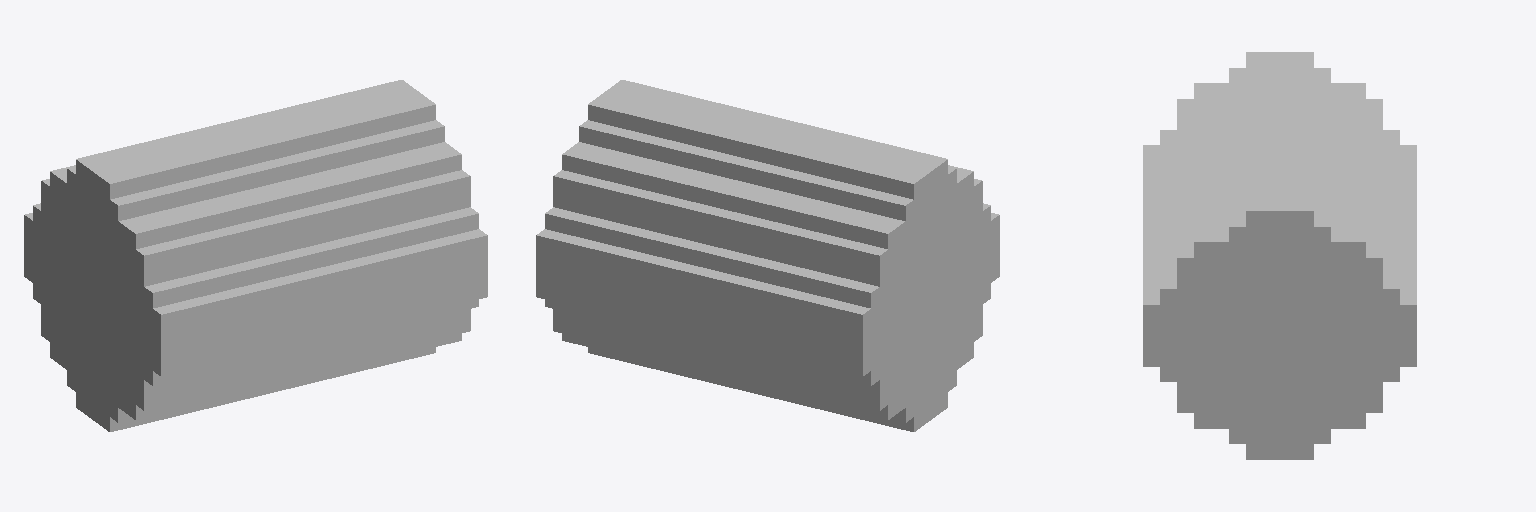
The model's file is snake22_ str.obj.
3 views of the same model, side by side, from view 1: azimuth 30°, elevation 25°; view 2: azimuth 150°, elevation 25°; view 3: azimuth 270°, elevation 25° (orthographic).
Parts seen in each view (by area): view 1: object 1; view 2: object 1; view 3: object 1.
Part boxes in pixels (left/top/right/bottom): object 1: left=24, top=80, right=487, bottom=431; object 1: left=536, top=80, right=999, bottom=431; object 1: left=1143, top=52, right=1416, bottom=459.
Bounding box in the file's own units: 2.2 × 1.6 × 1.6.